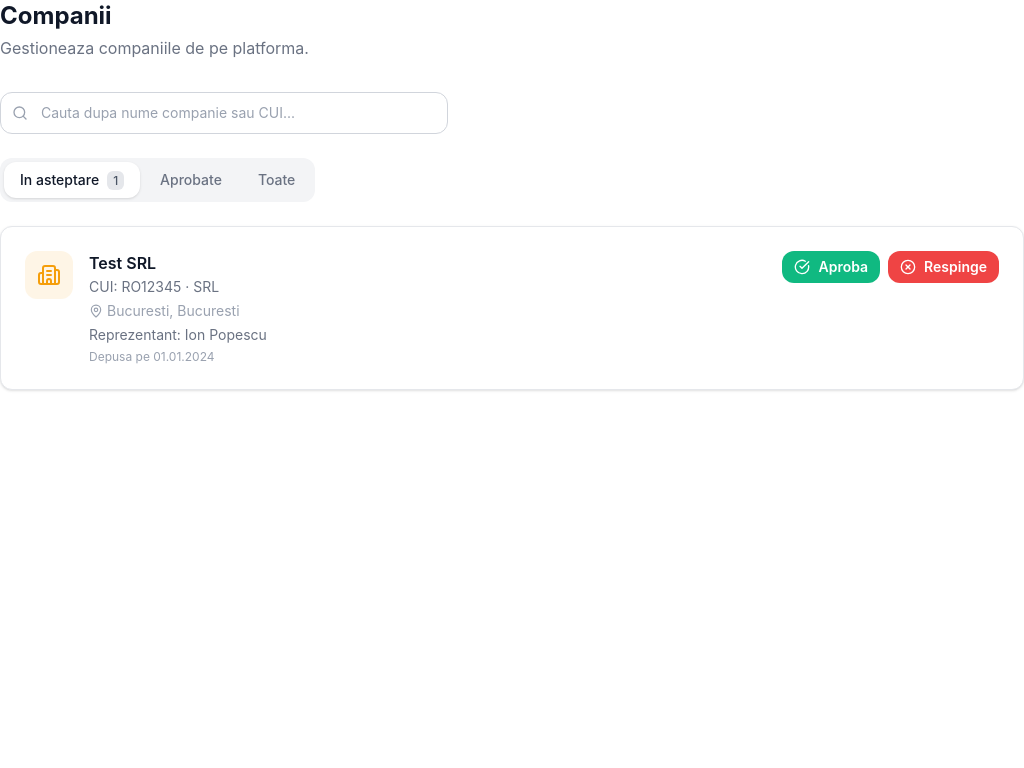
CompaniesPage › shows "Respinge aplicatia" modal title when reject button clicked
Click the button "Respinge": (944, 267) [888,251,999,283]
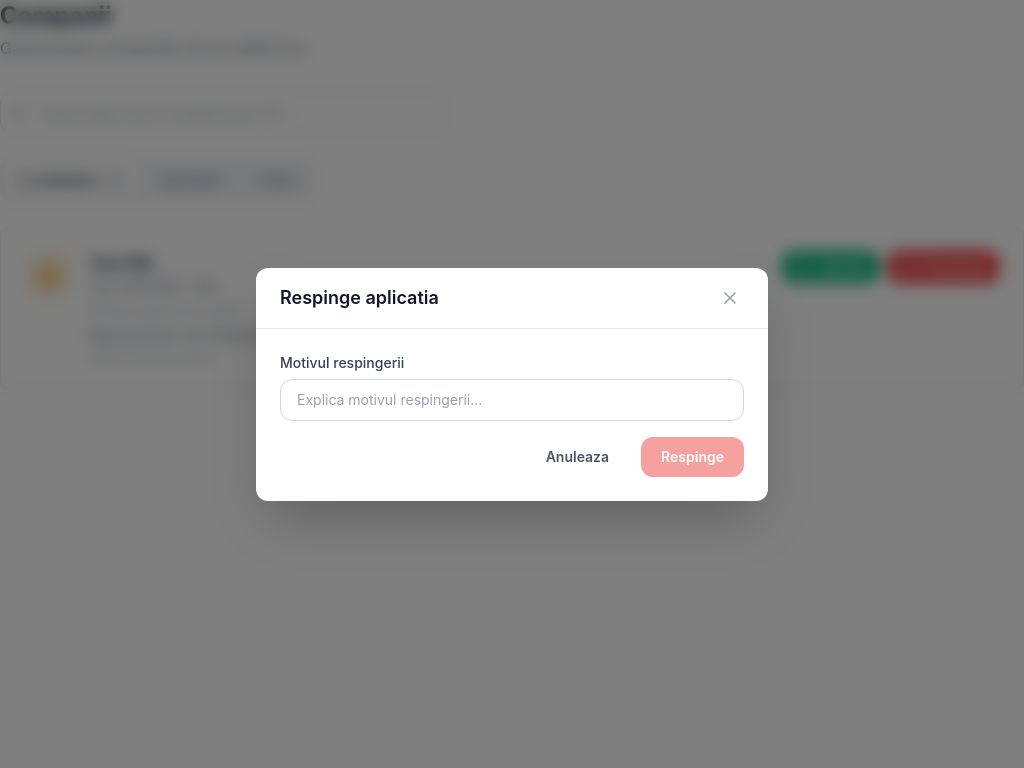
Now the heading "Respinge aplicatia" is shown, box [280,284,439,312]
